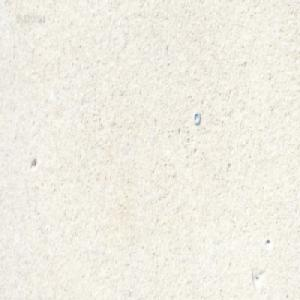Washer: (193, 110, 200, 125)
